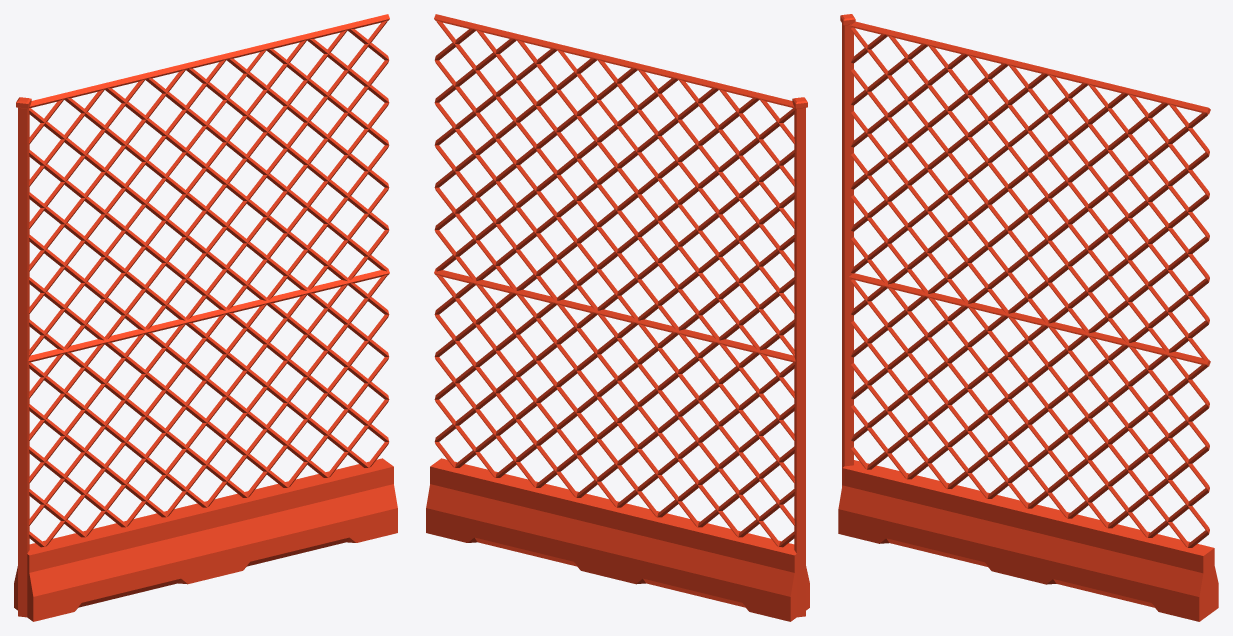
The model's file is SM_Fence_Construction_Tall_3m_City.fbx.
3 views of the same model, side by side, from view 1: azimuth 30°, elevation 25°; view 2: azimuth 150°, elevation 25°; view 3: azimuth 330°, elevation 25° (orthographic).
Parts seen in each view (by area): view 1: SM_Fence_Construction_Tall_3m_City; view 2: SM_Fence_Construction_Tall_3m_City; view 3: SM_Fence_Construction_Tall_3m_City.
Boxes of the visible parts, left/top/right/bottom form: SM_Fence_Construction_Tall_3m_City: left=14, top=14, right=397, bottom=621; SM_Fence_Construction_Tall_3m_City: left=426, top=14, right=809, bottom=621; SM_Fence_Construction_Tall_3m_City: left=838, top=14, right=1218, bottom=621.
Bounding box in the file's own units: 3.06 × 4.05 × 0.2748.
